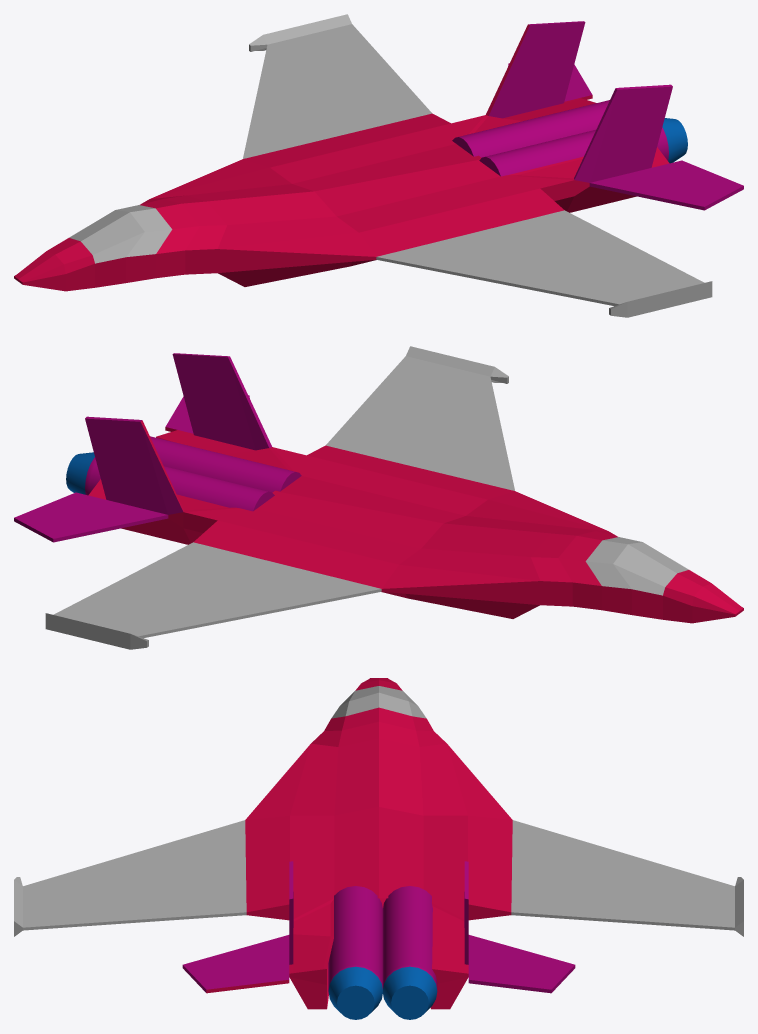
The picture shows the model from 3 angles, top to bottom: view 1: azimuth 30°, elevation 25°; view 2: azimuth 150°, elevation 25°; view 3: azimuth 270°, elevation 25°; orthographic projection.
Parts seen in each view (by area): view 1: pCylinder13; view 2: pCylinder13; view 3: pCylinder13.
Boxes of the visible parts, x1,y1,x2,y2 form: pCylinder13: (14, 14, 743, 317); pCylinder13: (14, 346, 743, 649); pCylinder13: (14, 678, 743, 1019).
Bounding box in the file's own units: 442 × 78.61 × 430.
